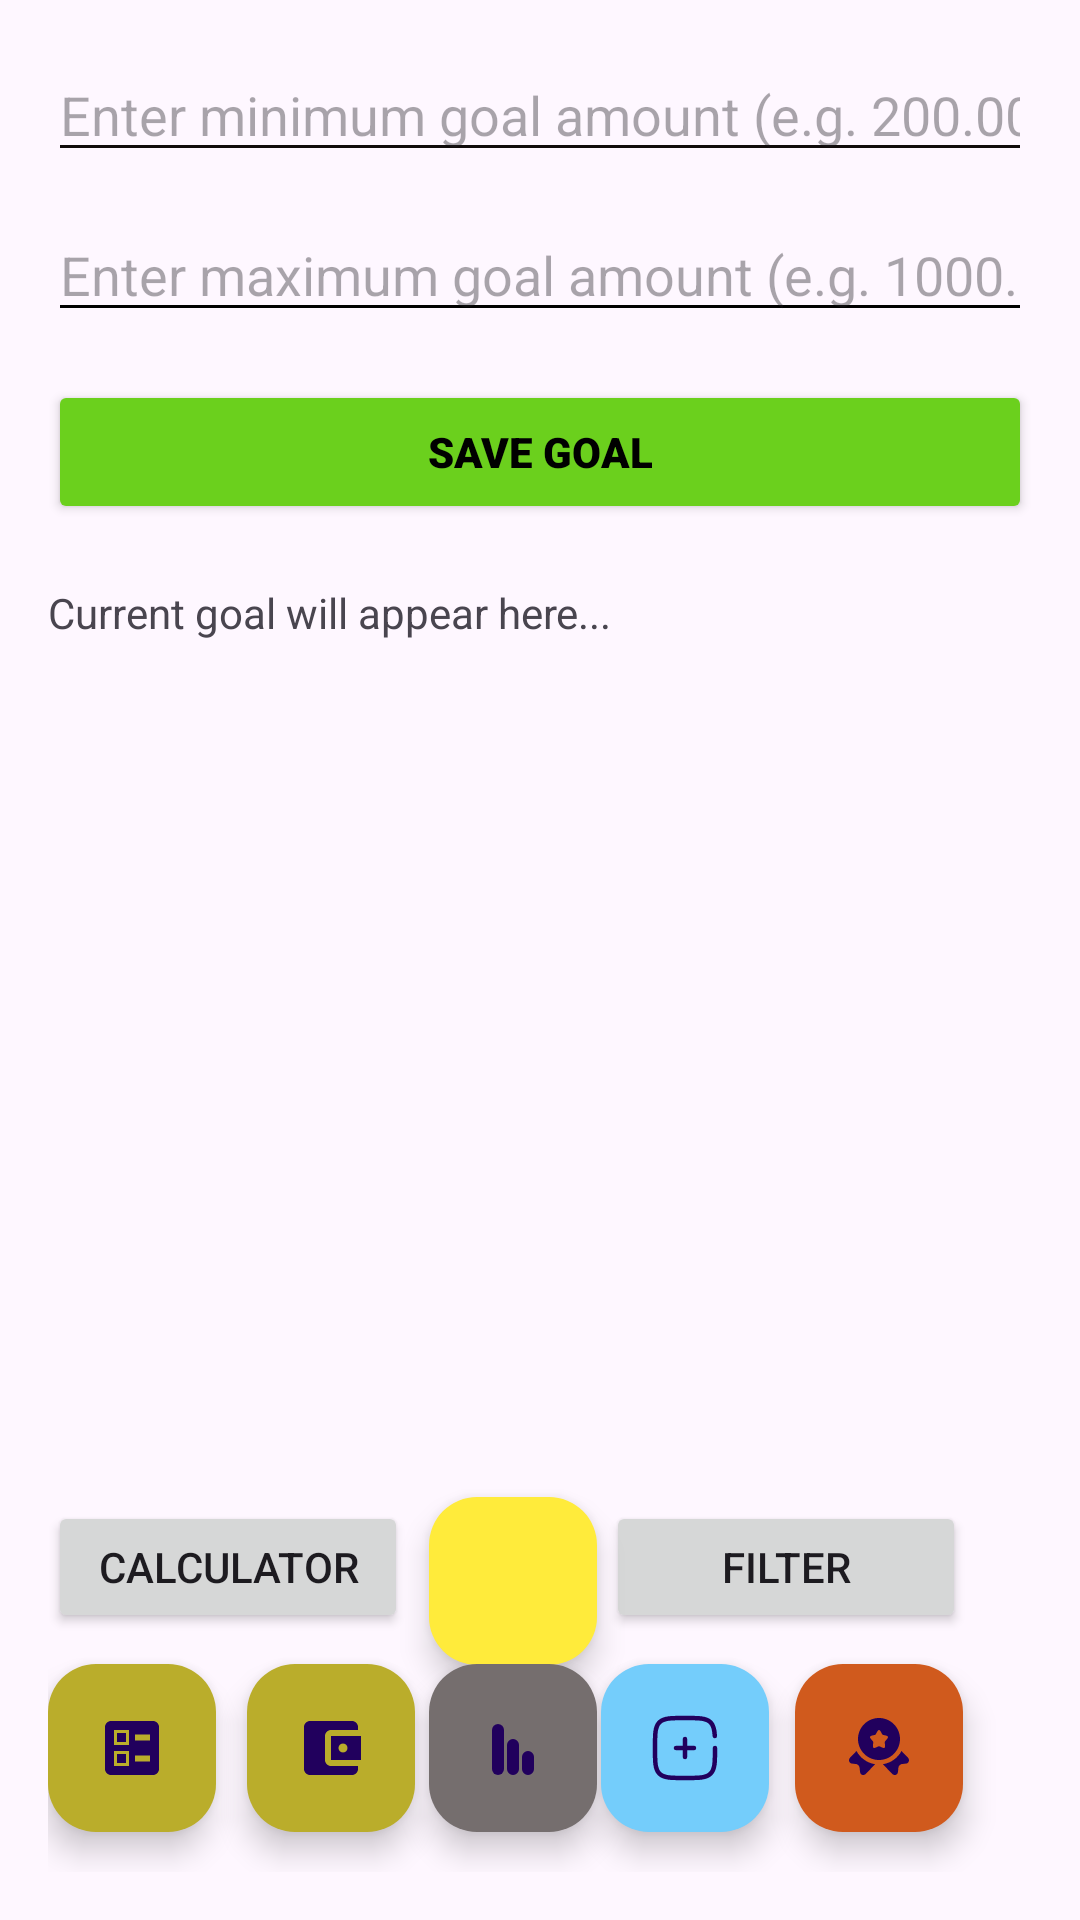

Icon bounding boxes for this 1080w x 1920h phone screenshot, format [left=x1, top=y1, right=x2, bottom=y2]:
medal: [left=795, top=1664, right=963, bottom=1832]
view ex: [left=48, top=1664, right=216, bottom=1832]
wallet: [left=247, top=1664, right=415, bottom=1832]
